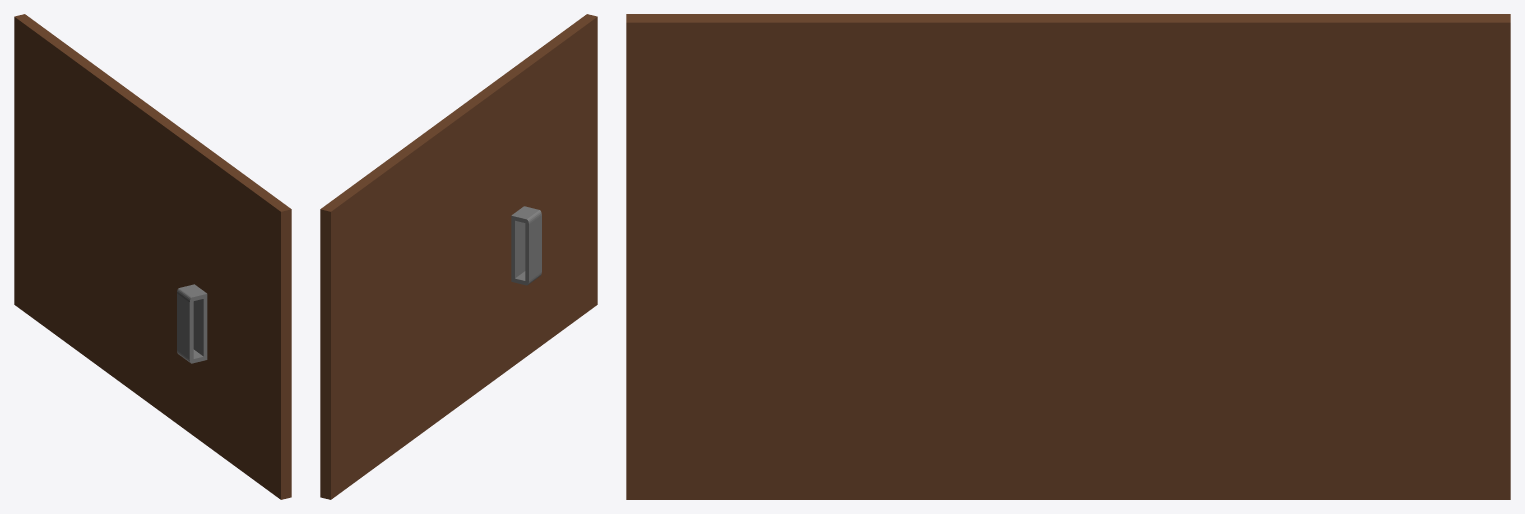
The model's file is Cabinet_Door_2.fbx.
3 views of the same model, side by side, from view 1: azimuth 30°, elevation 25°; view 2: azimuth 150°, elevation 25°; view 3: azimuth 270°, elevation 25° (orthographic). The views are drawn at different scales.
Parts seen in each view (by area): view 1: Cabinet Door.002; view 2: Cabinet Door.002; view 3: Cabinet Door.002.
Boxes of the visible parts, x1,y1,x2,y2 form: Cabinet Door.002: (14,14,291,499); Cabinet Door.002: (320,14,597,499); Cabinet Door.002: (626,14,1510,499).
Bounding box in the file's own units: 108 × 1048 × 1759.
